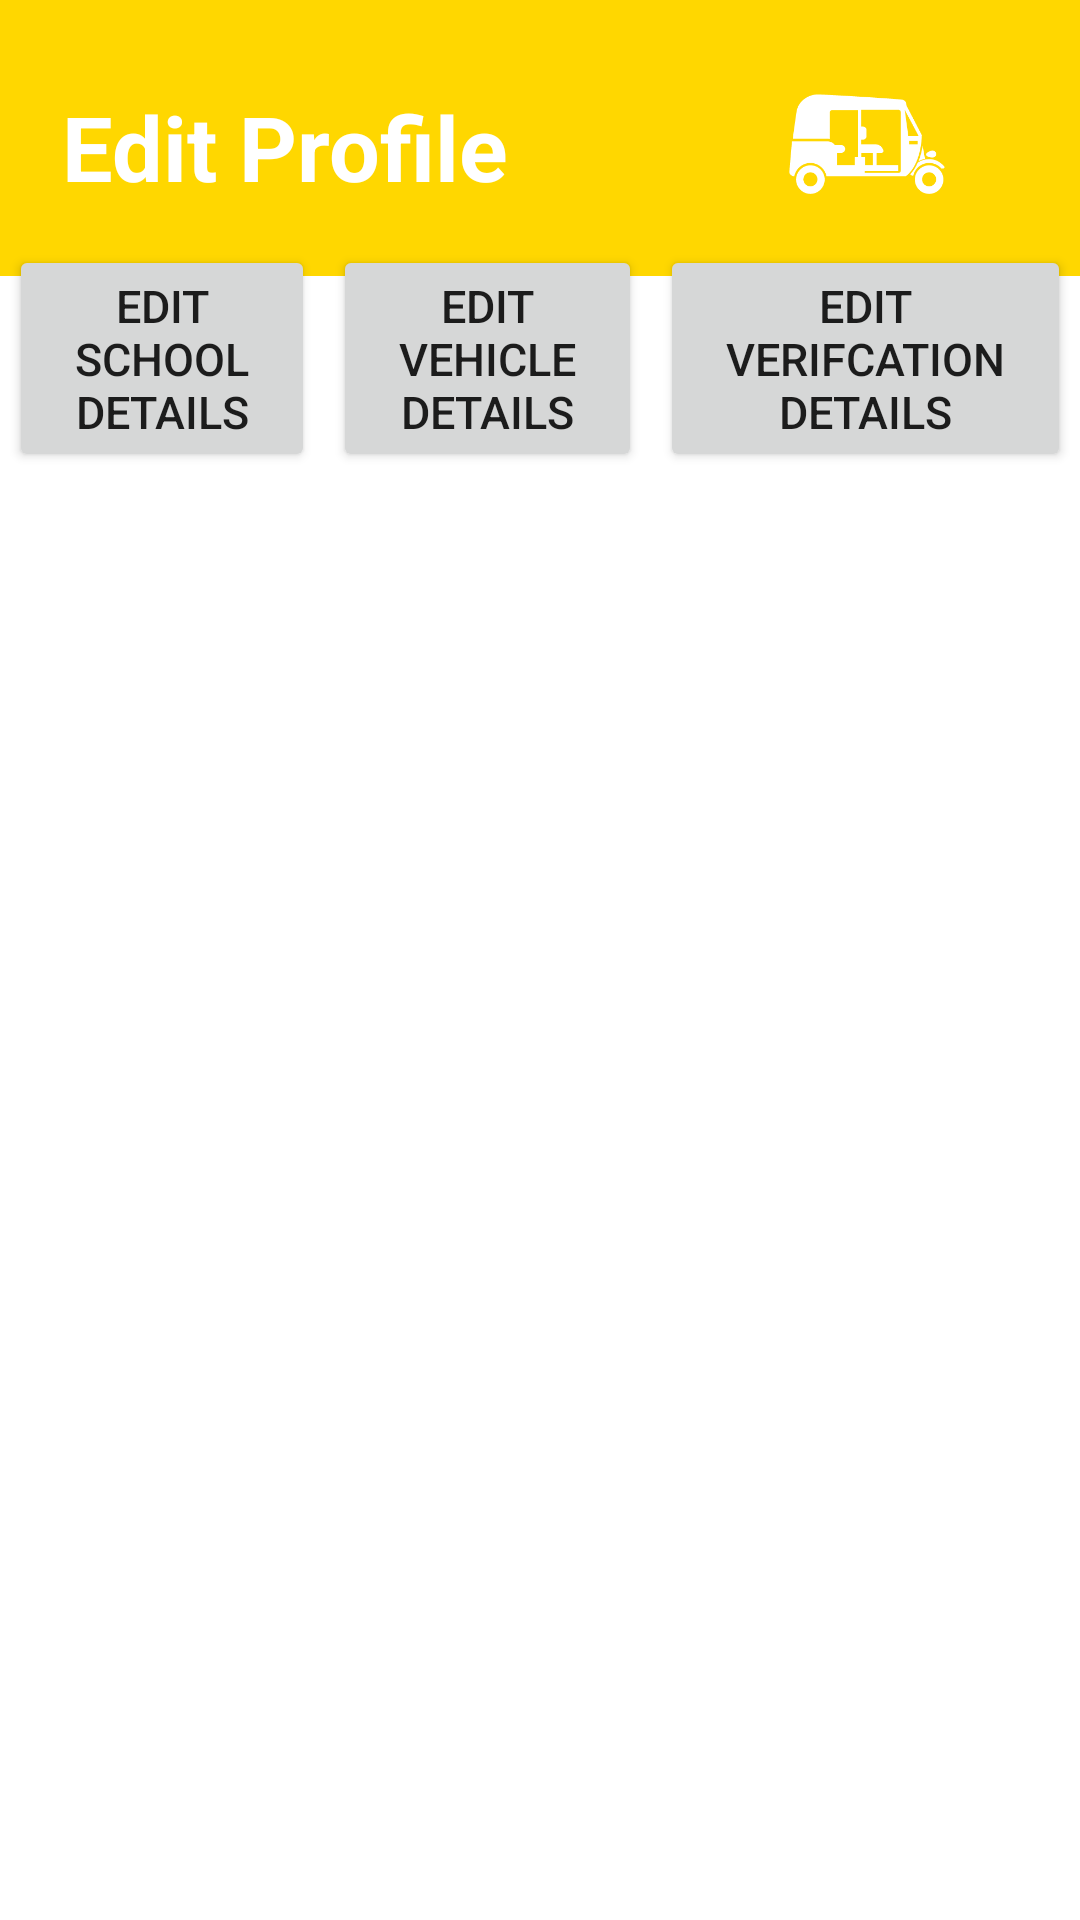

Screen size 1080 × 1920. Icon name, then its center in pixels as point (x, y):
rikshaw: point (867, 144)
